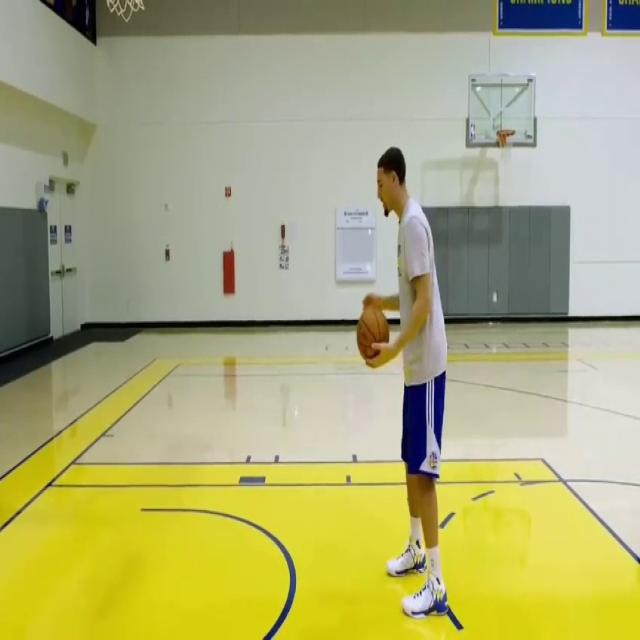ball: (357, 305, 390, 360)
